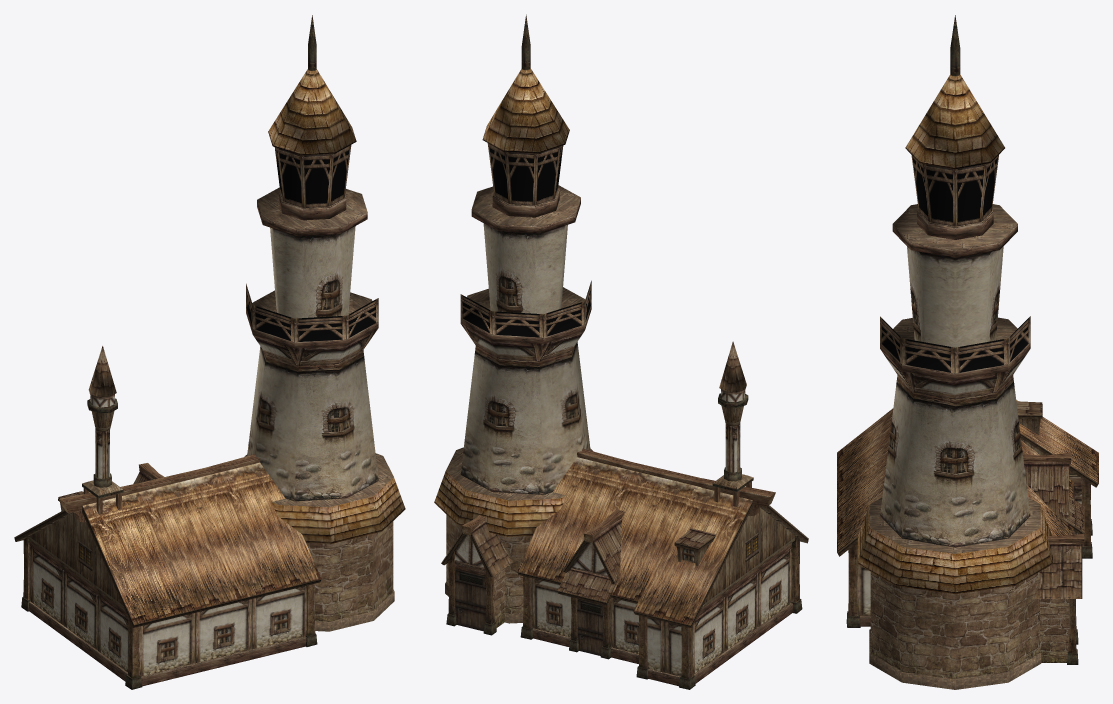
Rendered from ti_lighthouse.glb.
3 renders of one model, left to right at view 1: azimuth 30°, elevation 25°; view 2: azimuth 150°, elevation 25°; view 3: azimuth 270°, elevation 25°, orthographic. The views are drawn at different scales.
Visible parts, largest first — view 1: TI_Lighthouse; view 2: TI_Lighthouse; view 3: TI_Lighthouse.
Part boxes in pixels (x1,y1,x2,y2): TI_Lighthouse: [14, 15, 405, 689]; TI_Lighthouse: [434, 14, 808, 689]; TI_Lighthouse: [837, 15, 1098, 689].
Size of the model in its own units: 6.01 by 10.11 by 3.76.
Materials: 19 (19 with a texture image).
